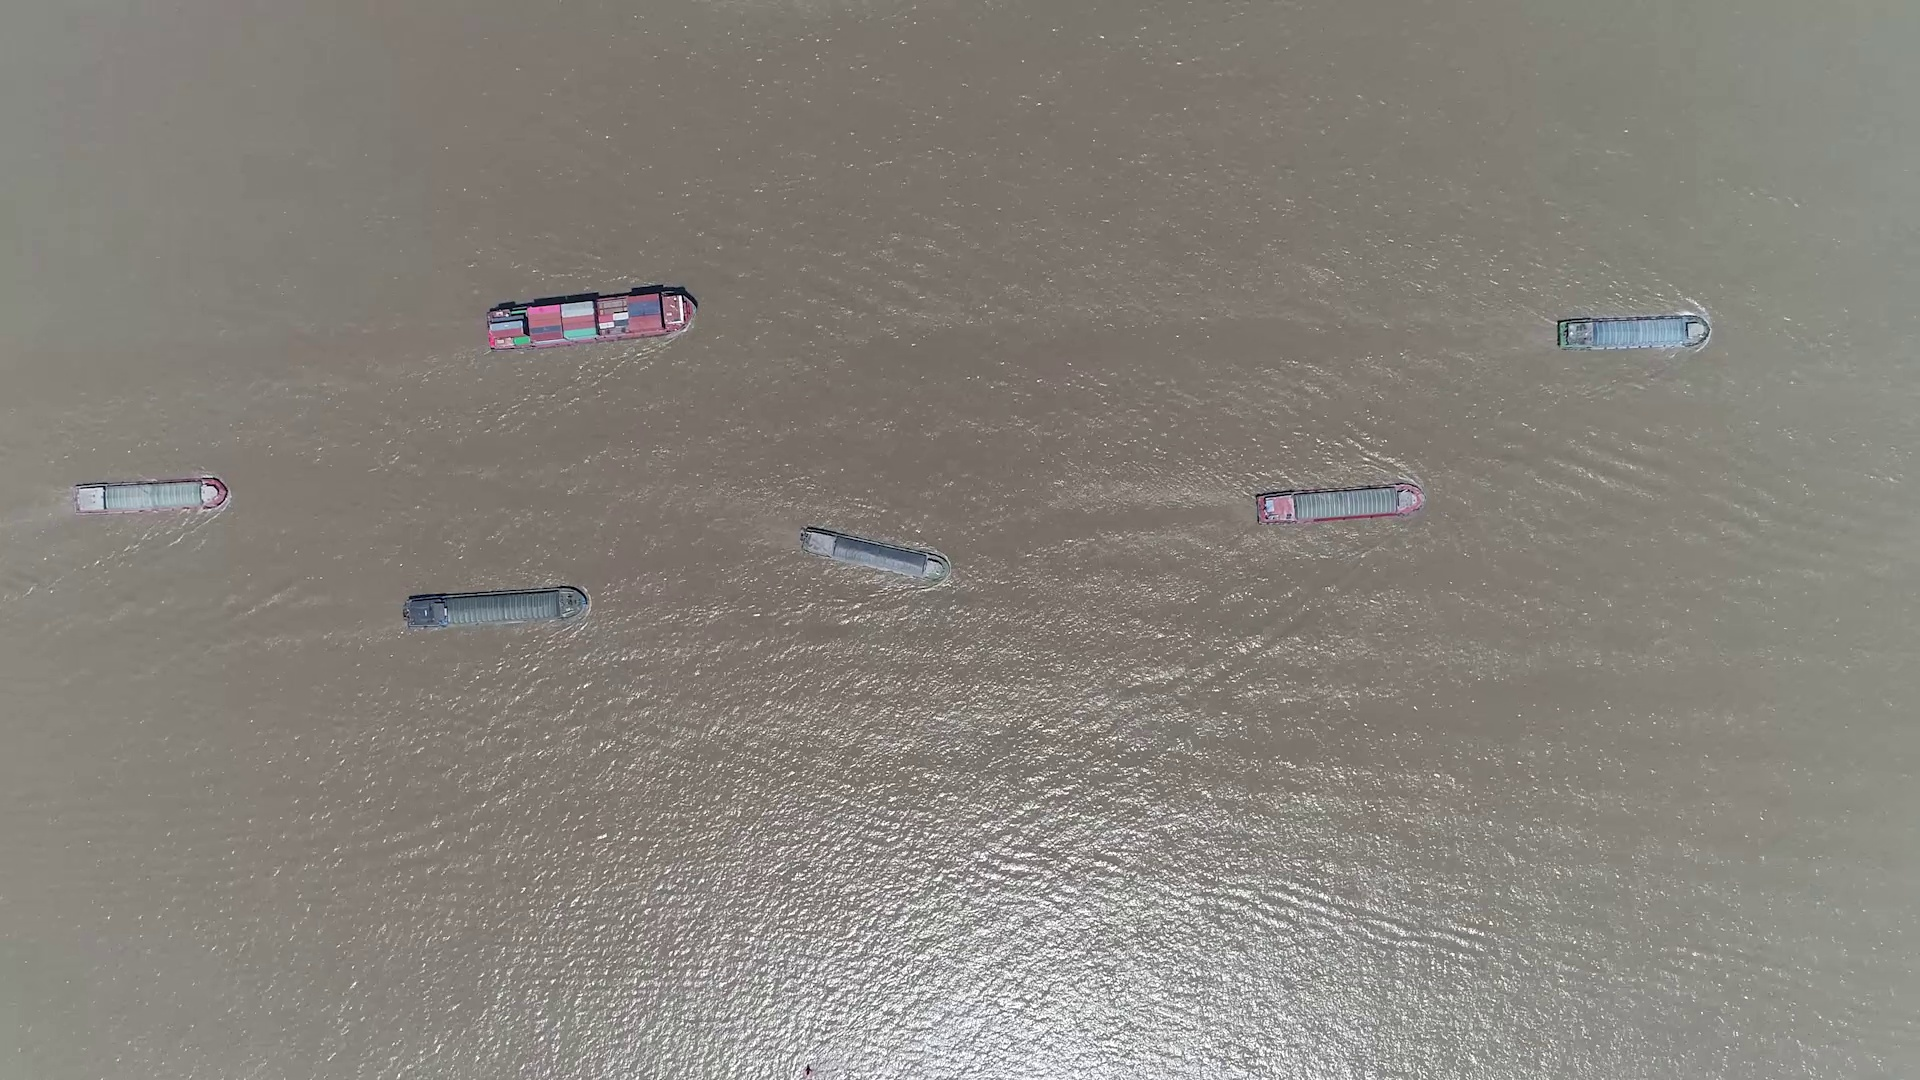ship: (485, 287, 698, 349), (798, 526, 951, 583), (404, 587, 589, 630), (1257, 483, 1425, 525), (74, 477, 225, 513), (1557, 316, 1705, 349)
